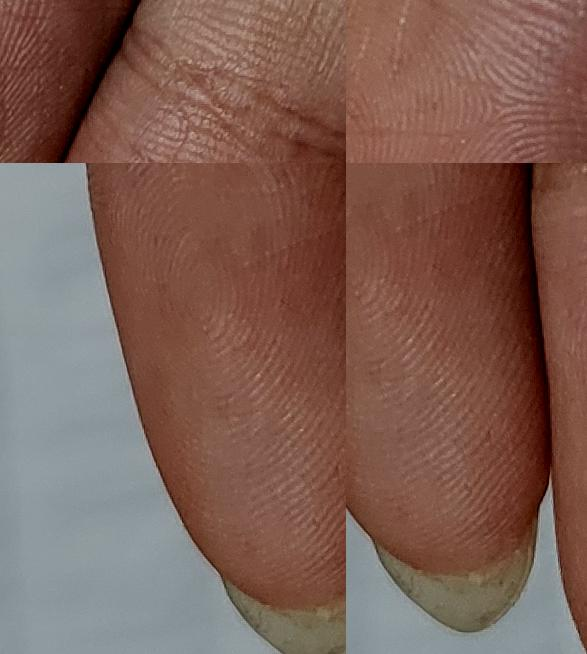Fingerprints: (86, 163, 346, 614), (346, 163, 551, 579), (346, 0, 587, 163), (64, 43, 346, 163)
